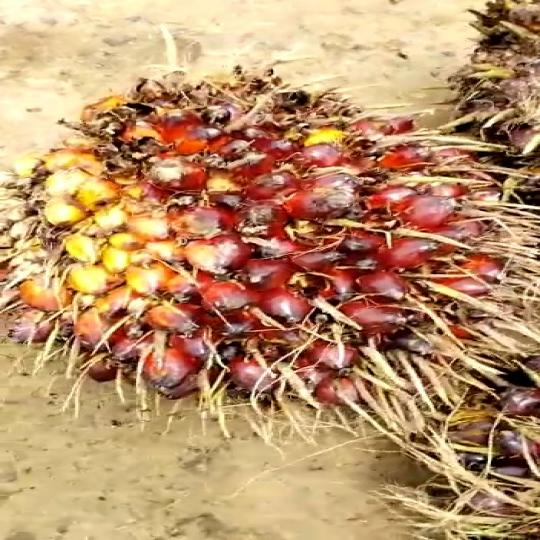masak: (0, 56, 540, 440)
